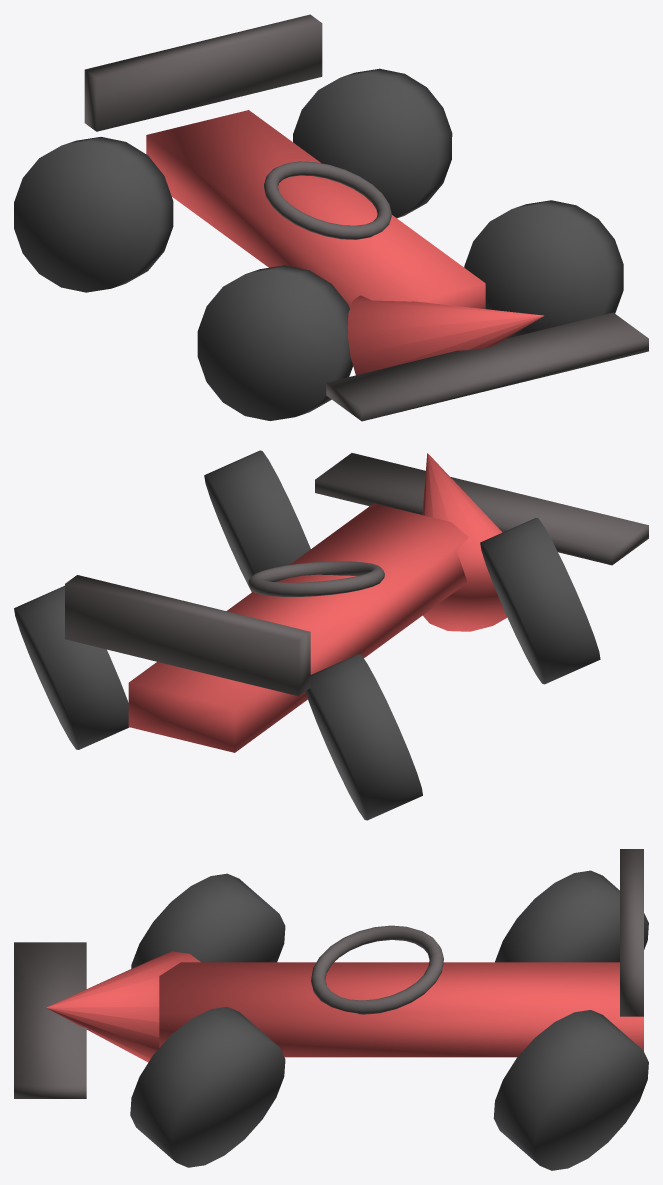
The model's file is formula_1_car.glb.
The picture shows the model from 3 angles, top to bottom: view 1: azimuth 30°, elevation 25°; view 2: azimuth 150°, elevation 25°; view 3: azimuth 270°, elevation 25°; orthographic projection. The views are drawn at different scales.
Parts seen in each view (by area): view 1: chassis, tire_-0.68_-0.7, tire_-0.65_0.8, rw, tire_0.68_-0.7, tire_0.65_0.8, fw, nose, halo; view 2: chassis, rw, fw, tire_-0.65_0.8, tire_-0.68_-0.7, tire_0.68_-0.7, tire_0.65_0.8, nose, halo; view 3: chassis, tire_0.68_-0.7, tire_0.65_0.8, fw, tire_-0.65_0.8, tire_-0.68_-0.7, nose, halo, rw.
Part boxes in pixels (left/top/right/bottom): chassis: left=146, top=110, right=485, bottom=308; tire_-0.68_-0.7: left=14, top=137, right=173, bottom=292; tire_-0.65_0.8: left=197, top=265, right=352, bottom=420; rw: left=84, top=14, right=322, bottom=131; tire_0.68_-0.7: left=293, top=68, right=452, bottom=218; tire_0.65_0.8: left=464, top=200, right=623, bottom=338; fw: left=326, top=312, right=648, bottom=421; nose: left=347, top=295, right=543, bottom=375; halo: left=264, top=161, right=391, bottom=239; chassis: left=128, top=503, right=468, bottom=752; rw: left=65, top=575, right=310, bottom=696; fw: left=315, top=453, right=648, bottom=565; tire_-0.65_0.8: left=480, top=518, right=600, bottom=684; tire_-0.68_-0.7: left=305, top=654, right=422, bottom=820; tire_0.68_-0.7: left=14, top=585, right=128, bottom=749; tire_0.65_0.8: left=204, top=450, right=310, bottom=592; nose: left=422, top=453, right=507, bottom=631; halo: left=248, top=561, right=384, bottom=596; chassis: left=159, top=962, right=643, bottom=1057; tire_0.68_-0.7: left=493, top=1010, right=648, bottom=1170; tire_0.65_0.8: left=130, top=1006, right=285, bottom=1167; fw: left=14, top=942, right=86, bottom=1098; tire_-0.65_0.8: left=131, top=873, right=285, bottom=968; tire_-0.68_-0.7: left=495, top=870, right=648, bottom=962; nose: left=46, top=951, right=200, bottom=1062; halo: left=311, top=925, right=443, bottom=1014; rw: left=620, top=849, right=643, bottom=1016.
Size of the model in its own units: 2 by 0.8672 by 2.62.
